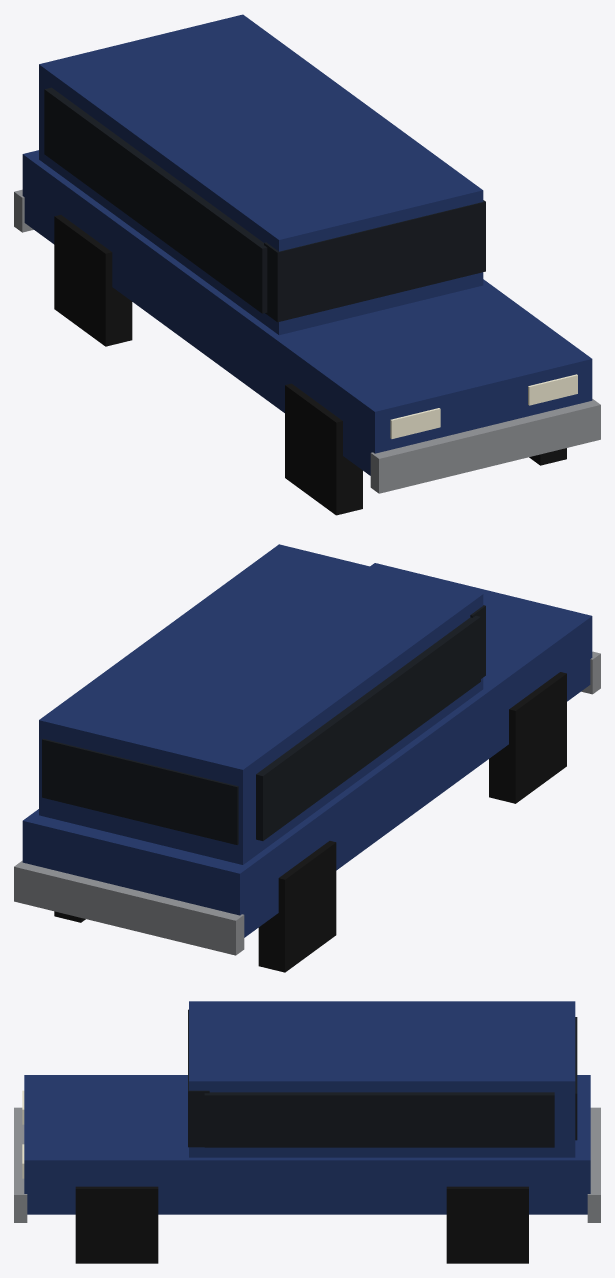
Rendered from suv_blue.dae.
3 views of the same model, one above another, from view 1: azimuth 30°, elevation 25°; view 2: azimuth 150°, elevation 25°; view 3: azimuth 270°, elevation 25° (orthographic). The views are drawn at different scales.
Parts seen in each view (by area): view 1: marker; view 2: marker; view 3: marker.
Boxes of the visible parts, left/top/right/bottom form: marker: left=14, top=14, right=600, bottom=515; marker: left=14, top=544, right=600, bottom=972; marker: left=14, top=1001, right=600, bottom=1263.
Bounding box in the file's own units: 2.08 × 5.7 × 1.9.
